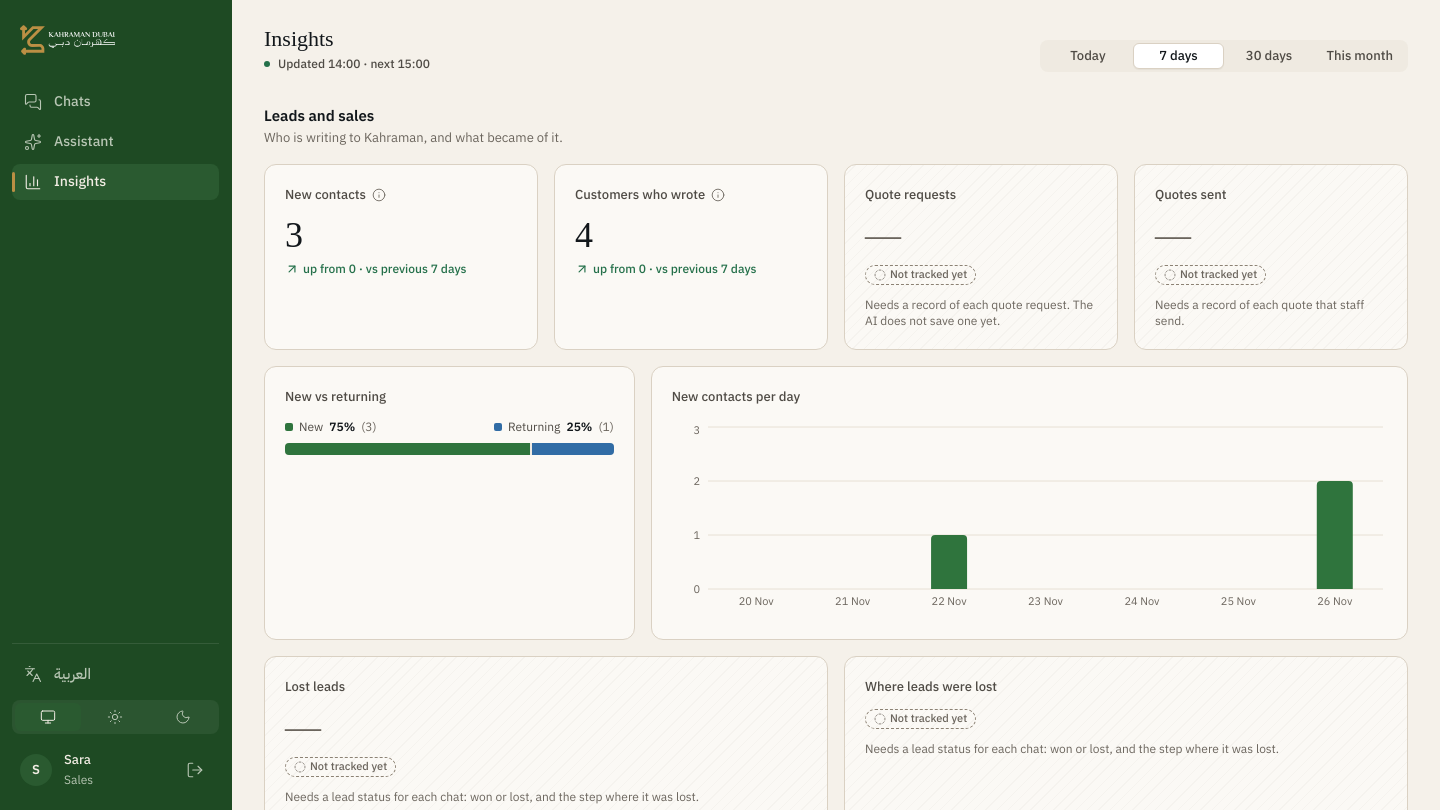
Test: insights › shows the change against the previous period, and no change when there is no earlier data
Expected: the text "Updated 14:00 · next 15:00" is shown, [278,56,430,72]
Expected: the element "New contacts" shows "up from 0 · vs previous 7 days", [264,164,538,350]
Click the button "30 days" at {"x": 1269, "y": 56}, box [1224,43,1314,69]
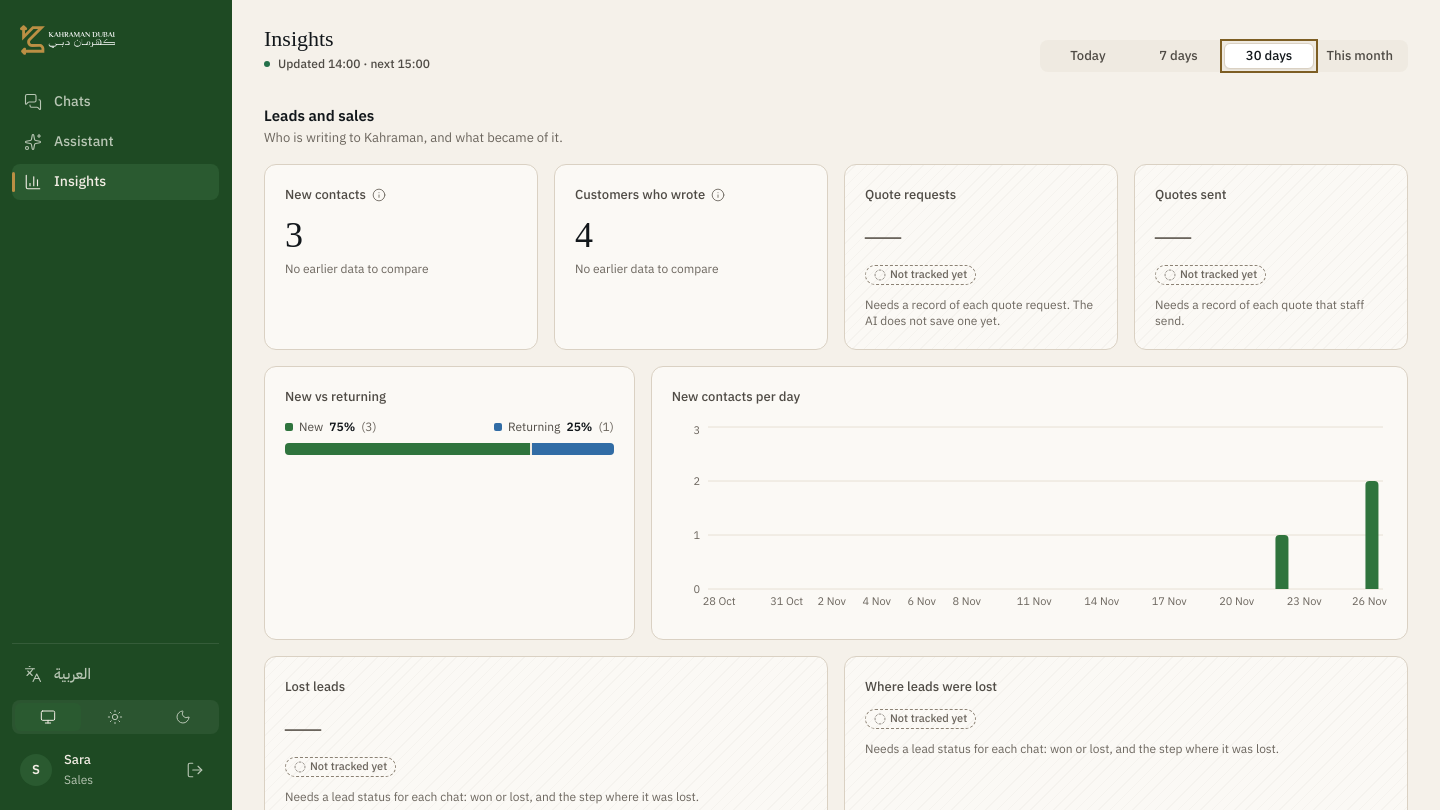
Expected: the element "New contacts" shows "No earlier data to compare", [285,260,428,278]
